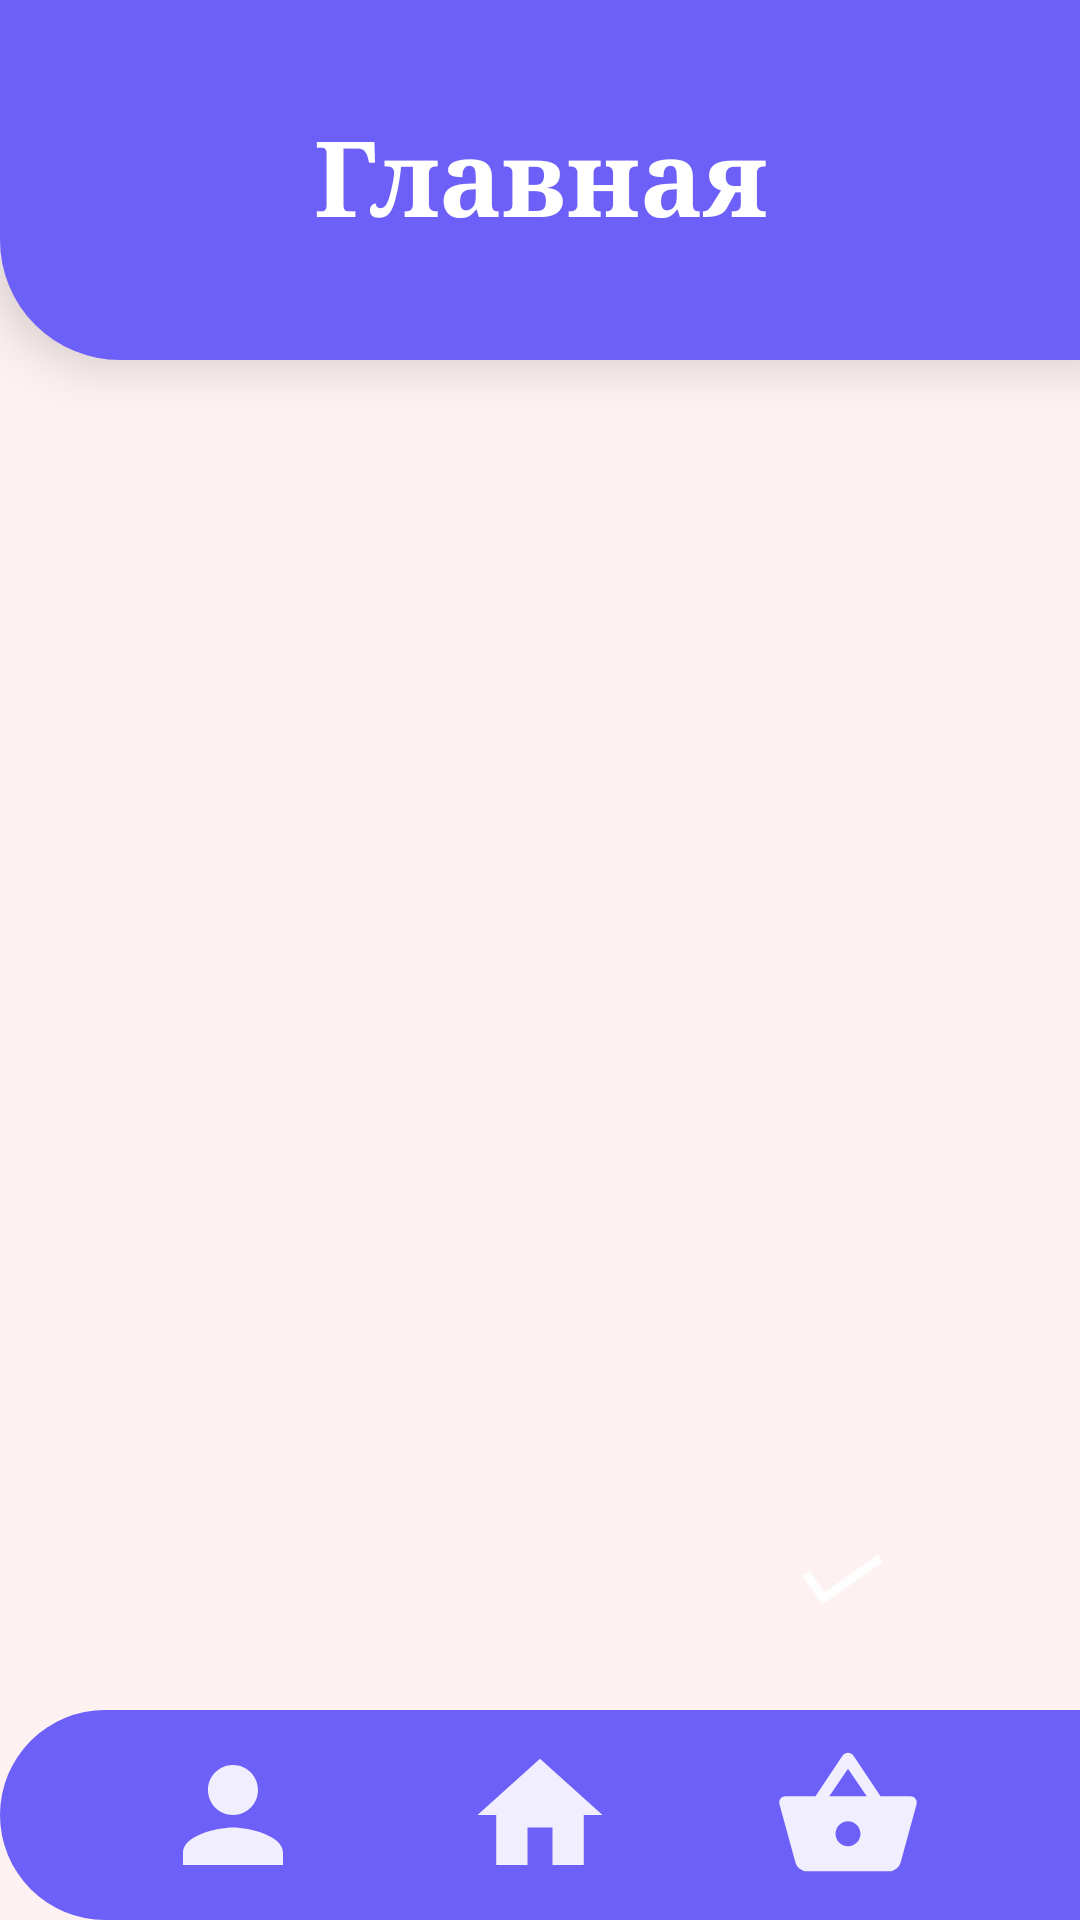

Icons on this 1080w x 1920h Android screen, each with its box as (x1,y1,x2,y2):
home: (478,1759,602,1865)
person: (183,1765,283,1865)
shopping basket: (779,1752,917,1872)
